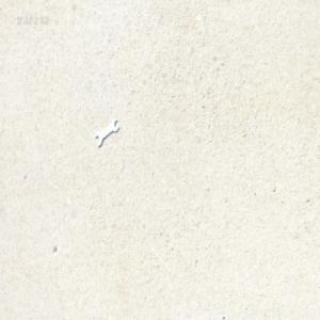Wrenchtrack_idkeyframe: (94, 117, 118, 146)
